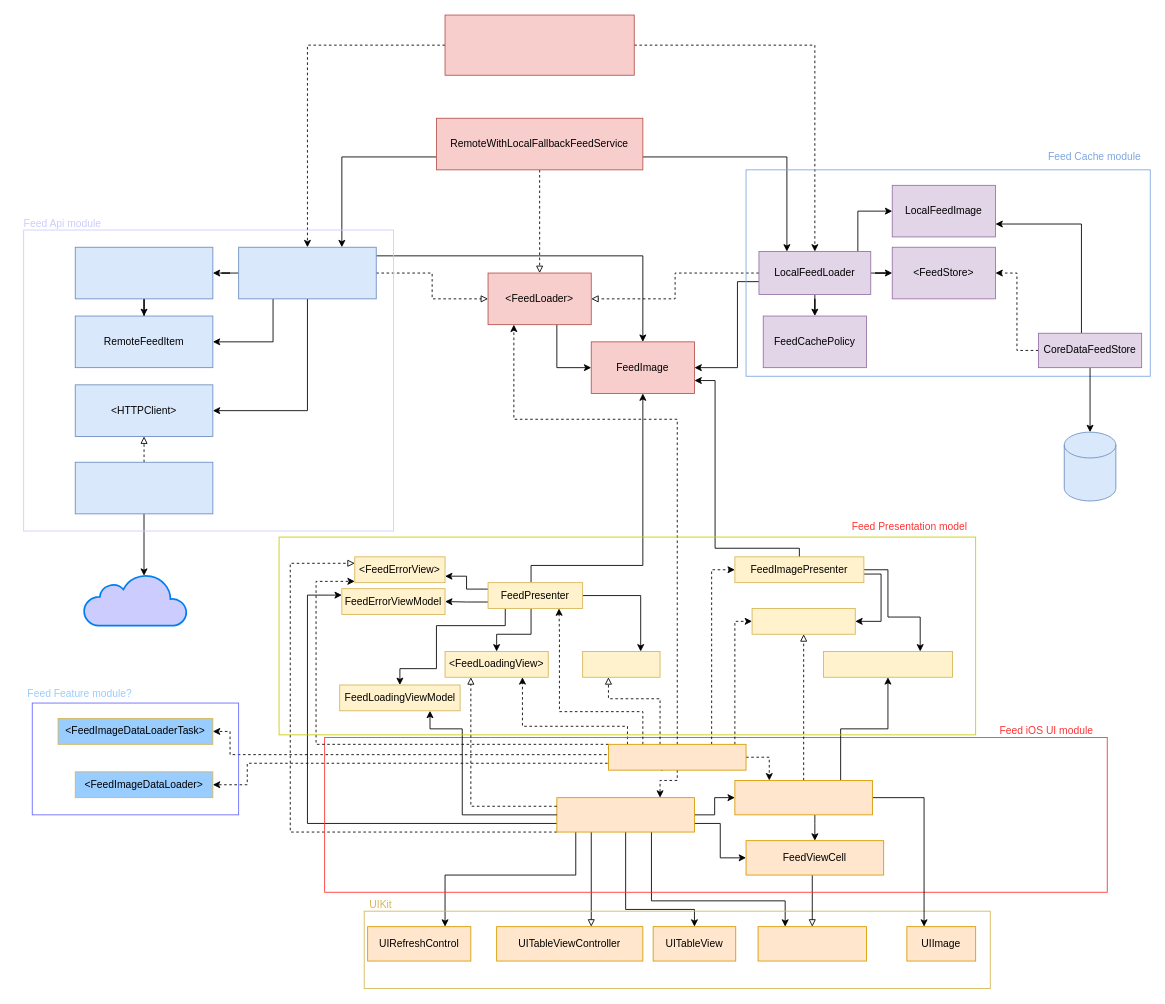
Image size: 1165x1004. Some labels were removed from this diagram. Here are the shapes that lost their labels. From the top down, the box of each, then its label:
(444, 14, 634, 75): Feed(Assembler/Builder/Factor
(74, 246, 213, 299): FeedItemsMapper
(238, 246, 376, 299): RemoteFeedLoader
(1063, 431, 1116, 501): Core Data
(74, 461, 213, 514): URLSession HTTPClient
(751, 608, 855, 634): <FeedImageView>
(582, 651, 660, 677): <FeedView>
(823, 651, 952, 677): FeedImageViewModel
(608, 743, 746, 770): FeedUIComposer
(556, 797, 694, 832): FeedViewController
(734, 780, 872, 815): FeedImageCellController
(757, 926, 866, 961): UITableViewCell
